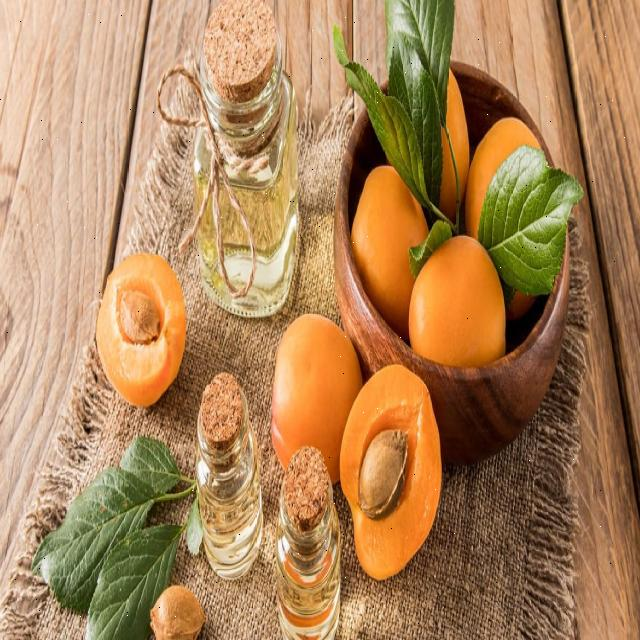kayisi: (326, 25, 558, 312), (247, 321, 446, 478)
kayisi cekirdegi: (88, 255, 194, 408)
yaprak: (39, 446, 198, 618)
